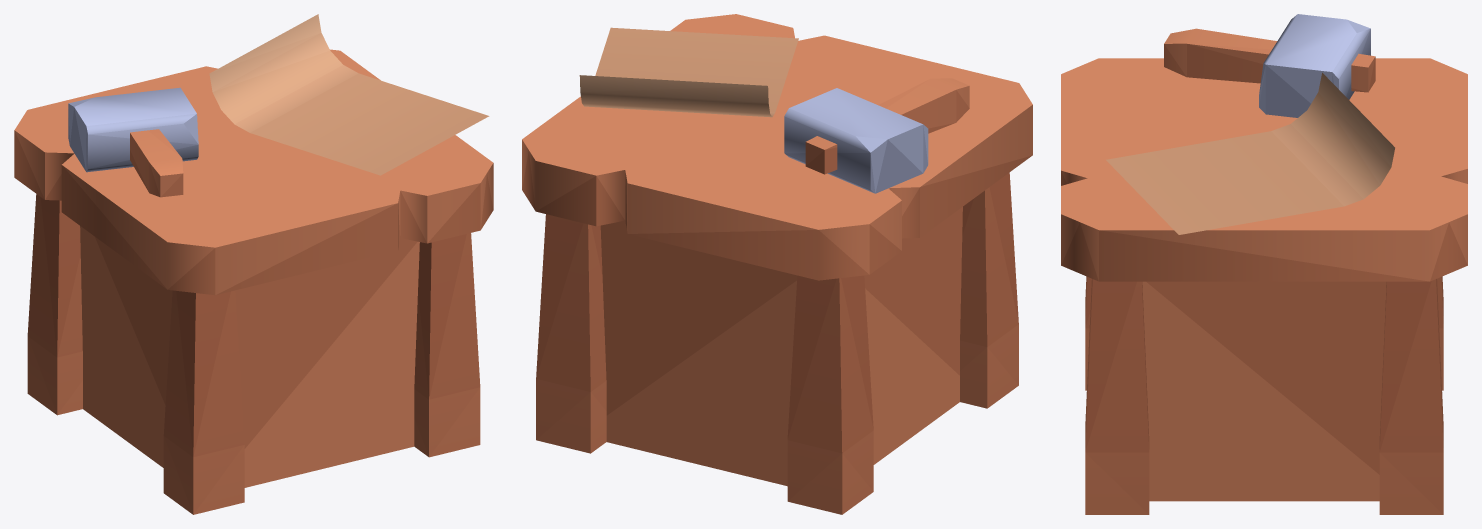
The model's file is workbench.glb.
The picture shows the model from 3 angles, left to right: view 1: azimuth 30°, elevation 25°; view 2: azimuth 150°, elevation 25°; view 3: azimuth 270°, elevation 25°; orthographic projection. The views are drawn at different scales.
Visible parts, largest first — view 1: cdb845d, cc77450, cea9167, cc4714e, cdea27b, cbc6a49, ccb7753, ccf7a55, ce4ab84, cbfc8f0, ce1a680, c9ba2c2 (+6 smaller); view 2: cdb845d, cc77450, cea9167, cc4714e, cbc6a49, cdea27b, ccf7a55, ccb7753, cbfc8f0, ceab38d, cedb791, ce4ab84 (+8 smaller); view 3: cdb845d, cea9167, cc77450, cdea27b, cc4714e, cbc6a49, ccb7753, ccf7a55, cbfc8f0, ce4ab84, ce1a680, c9197b6 (+8 smaller).
Boxes of the visible parts, <box> form: cdb845d: <box>14,130,493,487</box>; cc77450: <box>14,130,493,448</box>; cea9167: <box>14,49,492,247</box>; cc4714e: <box>27,150,480,457</box>; cdea27b: <box>250,73,489,175</box>; cbc6a49: <box>40,197,466,456</box>; ccb7753: <box>28,163,479,514</box>; ccf7a55: <box>27,337,480,514</box>; ce4ab84: <box>212,50,342,124</box>; cbfc8f0: <box>74,87,196,125</box>; ce1a680: <box>234,65,358,132</box>; c9ba2c2: <box>88,134,197,168</box>; cdb845d: <box>522,86,1032,486</box>; cc77450: <box>522,150,1032,415</box>; cea9167: <box>522,14,1032,229</box>; cc4714e: <box>536,123,1018,453</box>; cbc6a49: <box>536,172,1018,438</box>; cdea27b: <box>595,27,798,112</box>; ccf7a55: <box>536,347,1018,514</box>; ccb7753: <box>536,90,1018,500</box>; cbfc8f0: <box>789,88,922,139</box>; ceab38d: <box>582,86,768,102</box>; cedb791: <box>579,75,766,92</box>; ce4ab84: <box>582,103,771,117</box>; cdb845d: <box>1061,169,1467,501</box>; cea9167: <box>1061,58,1467,230</box>; cc77450: <box>1061,44,1467,474</box>; cdea27b: <box>1106,131,1343,234</box>; cc4714e: <box>1085,276,1443,452</box>; cbc6a49: <box>1085,276,1443,451</box>; ccb7753: <box>1086,328,1443,514</box>; ccf7a55: <box>1085,328,1443,514</box>; cbfc8f0: <box>1266,14,1356,71</box>; ce4ab84: <box>1291,92,1379,198</box>; ce1a680: <box>1271,124,1363,206</box>; c9197b6: <box>1265,65,1310,117</box>.
Size of the model in its own units: 0.3257 by 0.2866 by 0.2957.
